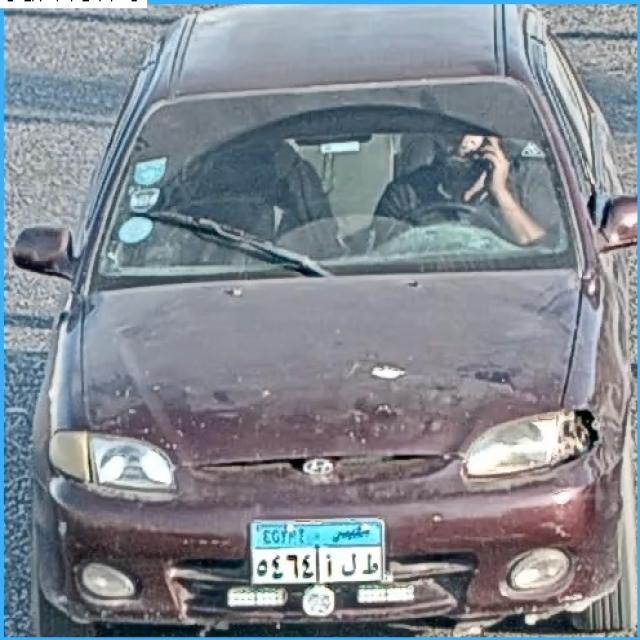windshield: (93, 100, 569, 278)
